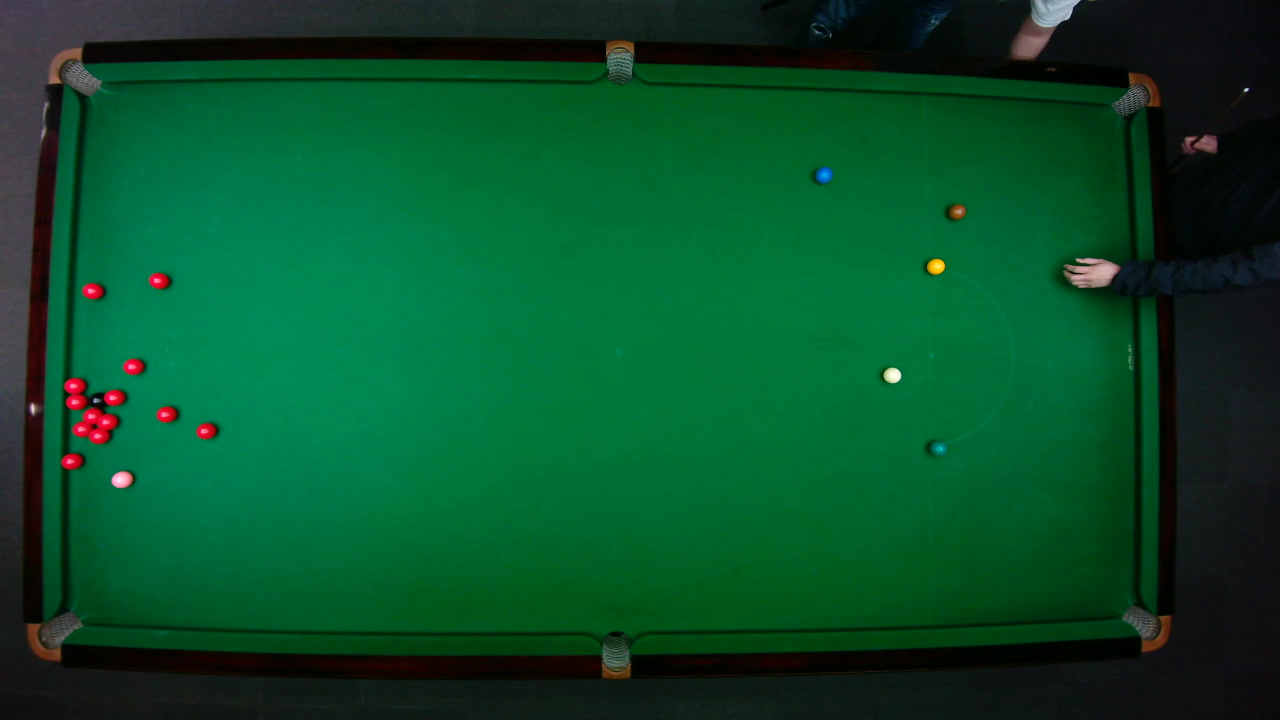bag: (25, 609, 83, 661), (46, 46, 102, 96), (1119, 603, 1171, 652), (1109, 71, 1161, 118), (600, 629, 630, 680), (605, 38, 633, 85)
black: (87, 391, 110, 410)
blue: (814, 165, 832, 184)
brown: (946, 202, 967, 220)
green: (927, 439, 947, 456)
pink: (109, 468, 134, 489)
red: (100, 387, 126, 406), (95, 413, 120, 432), (61, 376, 86, 395), (86, 427, 112, 445), (121, 357, 145, 375), (80, 281, 104, 299), (59, 451, 83, 469), (63, 393, 88, 410), (147, 271, 170, 289), (194, 421, 217, 439), (154, 404, 177, 422), (70, 420, 93, 438), (82, 408, 105, 426)
white: (881, 365, 902, 383)
yellow: (925, 257, 946, 274)
zone: (925, 264, 1013, 445)
